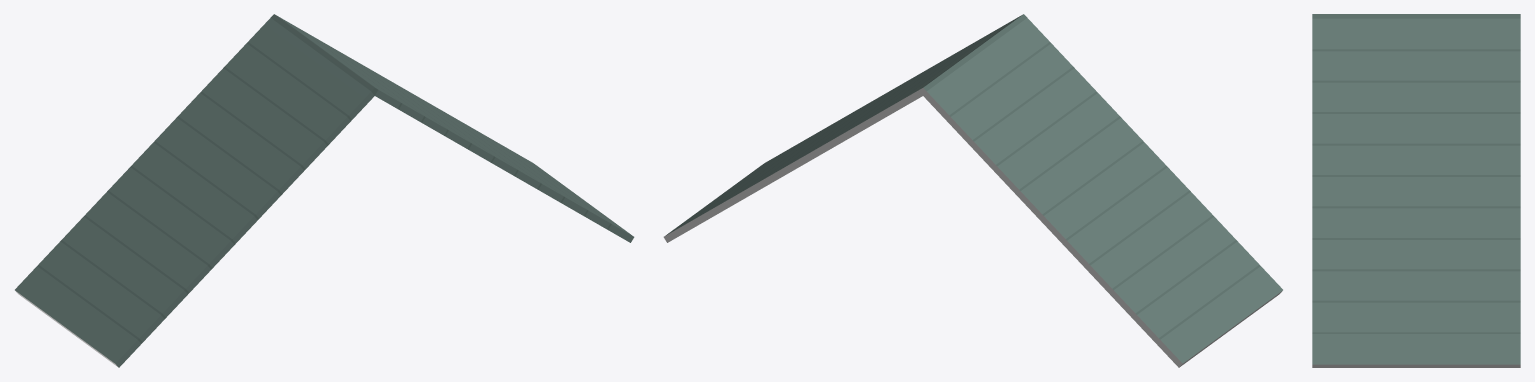
The model's file is Roof2_C6_03.fbx.
The picture shows the model from 3 angles, left to right: view 1: azimuth 30°, elevation 25°; view 2: azimuth 150°, elevation 25°; view 3: azimuth 270°, elevation 25°; orthographic projection. The views are drawn at different scales.
Visible parts, largest first — view 1: Roof2_C6_03; view 2: Roof2_C6_03; view 3: Roof2_C6_03.
Boxes of the visible parts, box(x1,y1,x2,y2) form: Roof2_C6_03: box(15, 14, 634, 367); Roof2_C6_03: box(663, 14, 1282, 367); Roof2_C6_03: box(1312, 14, 1520, 367).
Size of the model in its own units: 833 by 334 by 280.
